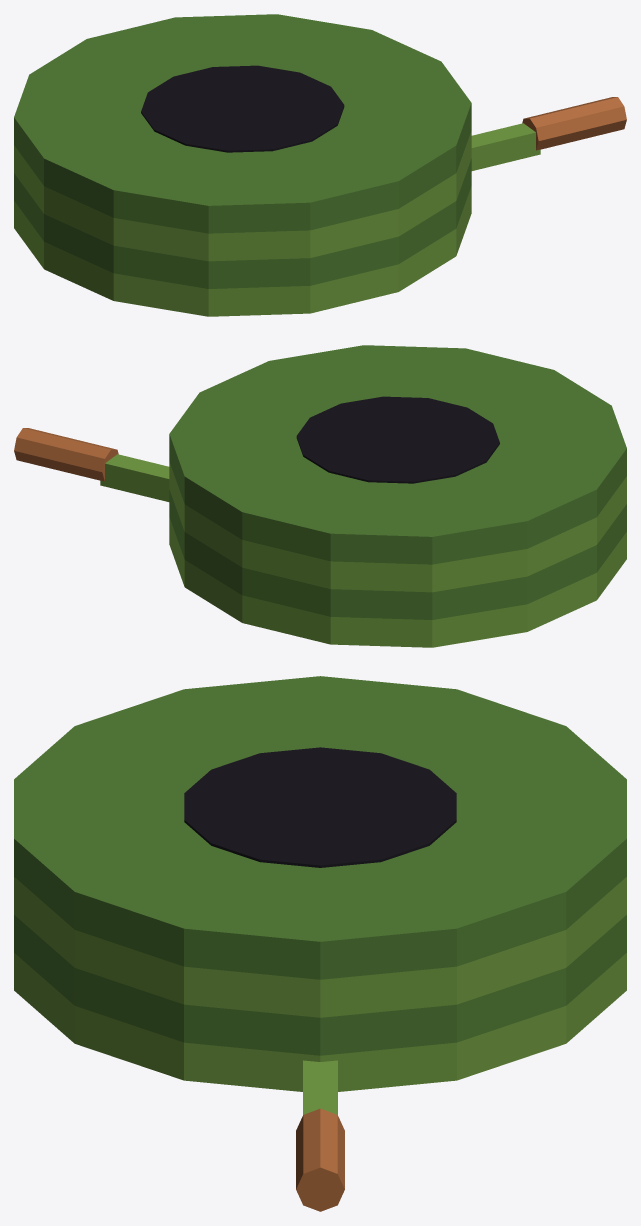
File: GT_HoseCoil_01.glb
The picture shows the model from 3 angles, top to bottom: view 1: azimuth 30°, elevation 25°; view 2: azimuth 150°, elevation 25°; view 3: azimuth 270°, elevation 25°; orthographic projection. The views are drawn at different scales.
Visible parts, largest first — view 1: GT_HoseCoil_01; view 2: GT_HoseCoil_01; view 3: GT_HoseCoil_01.
Part boxes in pixels (x1=…): GT_HoseCoil_01: x1=14, y1=14, x2=626, y2=316; GT_HoseCoil_01: x1=14, y1=345, x2=626, y2=647; GT_HoseCoil_01: x1=14, y1=676, x2=626, y2=1211.
Size of the model in its own units: 0.65 by 0.122 by 0.4387.
1 material, 1 textured.
